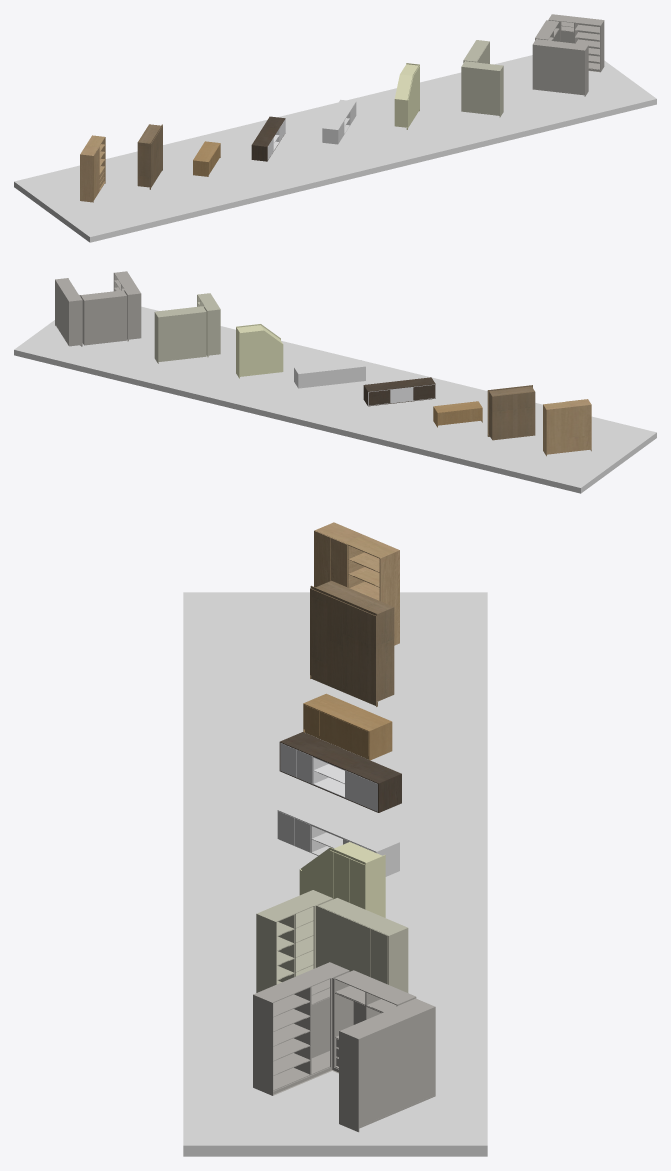
File: closets2-transformed.glb
The picture shows the model from 3 angles, top to bottom: view 1: azimuth 30°, elevation 25°; view 2: azimuth 150°, elevation 25°; view 3: azimuth 270°, elevation 25°; orthographic projection. The views are drawn at different scales.
Parts seen in each view (by area): view 1: Plane.003, uShape00, lshape, vrijstaand.001, inbouw.002, schuin.001, zwevend, zwevend.001, dressoir.001; view 2: Plane.003, uShape00, lshape, vrijstaand.001, inbouw.002, schuin.001, zwevend, zwevend.001, dressoir.001; view 3: Plane.003, uShape00, lshape, zwevend, vrijstaand.001, inbouw.002, zwevend.001, dressoir.001, schuin.001, door_plate.006, door_plate.009, door_plate.007 (+5 smaller).
Boxes of the visible parts, box(x1,y1,x2,y2) form: Plane.003: box(14, 55, 656, 242); uShape00: box(532, 14, 604, 96); lshape: box(461, 40, 503, 117); vrijstaand.001: box(80, 135, 105, 202); inbouw.002: box(137, 124, 162, 189); schuin.001: box(394, 63, 419, 129); zwevend: box(251, 116, 285, 161); zwevend.001: box(322, 99, 356, 144); dressoir.001: box(193, 141, 220, 176); Plane.003: box(14, 306, 656, 493); uShape00: box(55, 271, 141, 346); lshape: box(154, 293, 220, 363); vrijstaand.001: box(543, 399, 591, 456); inbouw.002: box(487, 385, 535, 440); schuin.001: box(236, 324, 283, 378); zwevend: box(363, 377, 435, 406); zwevend.001: box(294, 360, 365, 388); dressoir.001: box(433, 401, 482, 427); Plane.003: box(183, 592, 487, 1156); uShape00: box(253, 962, 435, 1132); lshape: box(256, 890, 408, 992); zwevend: box(279, 732, 401, 812); vrijstaand.001: box(314, 522, 399, 645); inbouw.002: box(310, 580, 394, 706); zwevend.001: box(277, 800, 399, 876); dressoir.001: box(303, 693, 392, 760); schuin.001: box(299, 842, 385, 917); door_plate.006: box(311, 589, 327, 681); door_plate.009: box(358, 609, 374, 701); door_plate.007: box(327, 595, 343, 688).
Size of the model in its own units: 4.21 by 0.3859 by 0.9775.
Materials: 8 (4 with a texture image).
